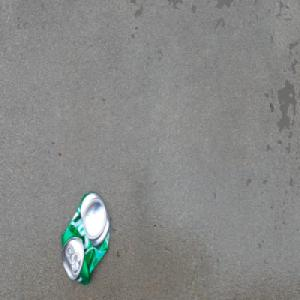SodaCan: (60, 189, 111, 287)
